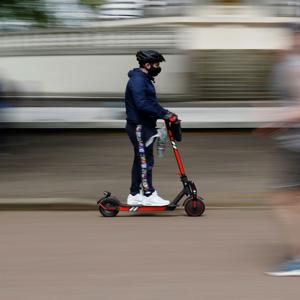human on a scooter: (96, 47, 207, 217)
